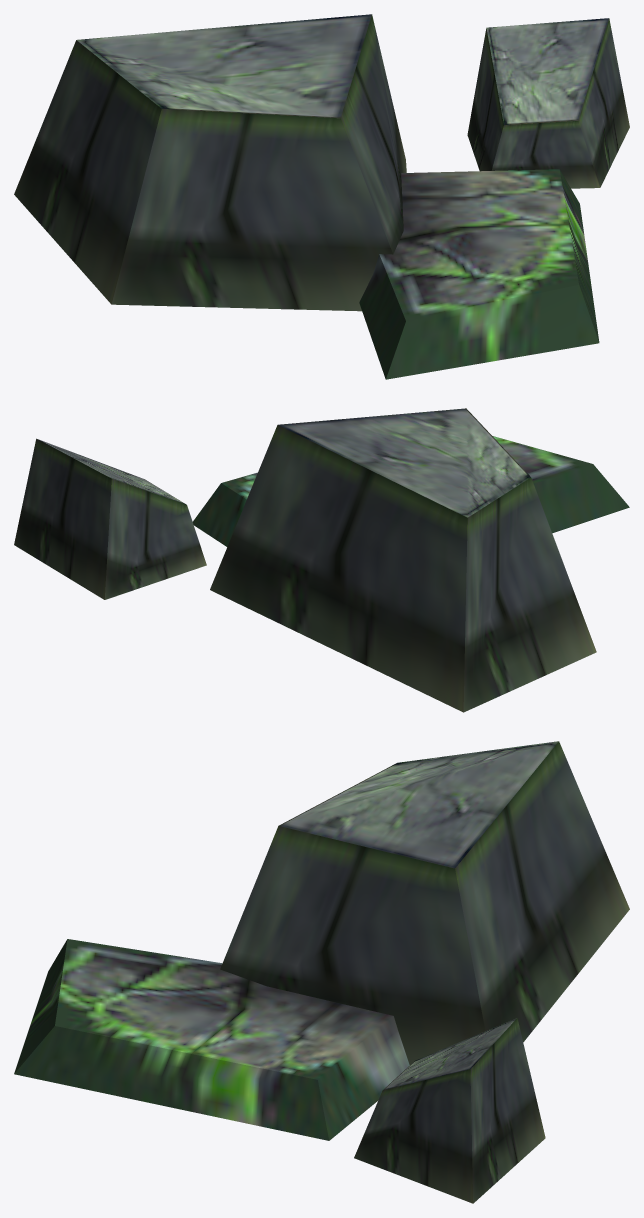
The model's file is ruins01.obj.
3 renders of one model, top to bottom at view 1: azimuth 30°, elevation 25°; view 2: azimuth 150°, elevation 25°; view 3: azimuth 270°, elevation 25°, orthographic. The views are drawn at different scales.
Parts seen in each view (by area): view 1: NorthrendRubble1; view 2: NorthrendRubble1; view 3: NorthrendRubble1.
Part boxes in pixels (box(x1,y1,x2,y2)): NorthrendRubble1: box(14, 14, 629, 379); NorthrendRubble1: box(14, 408, 629, 712); NorthrendRubble1: box(14, 741, 629, 1203).
Bounding box in the file's own units: 2.61 × 0.8492 × 2.32.
1 material, 1 textured.
